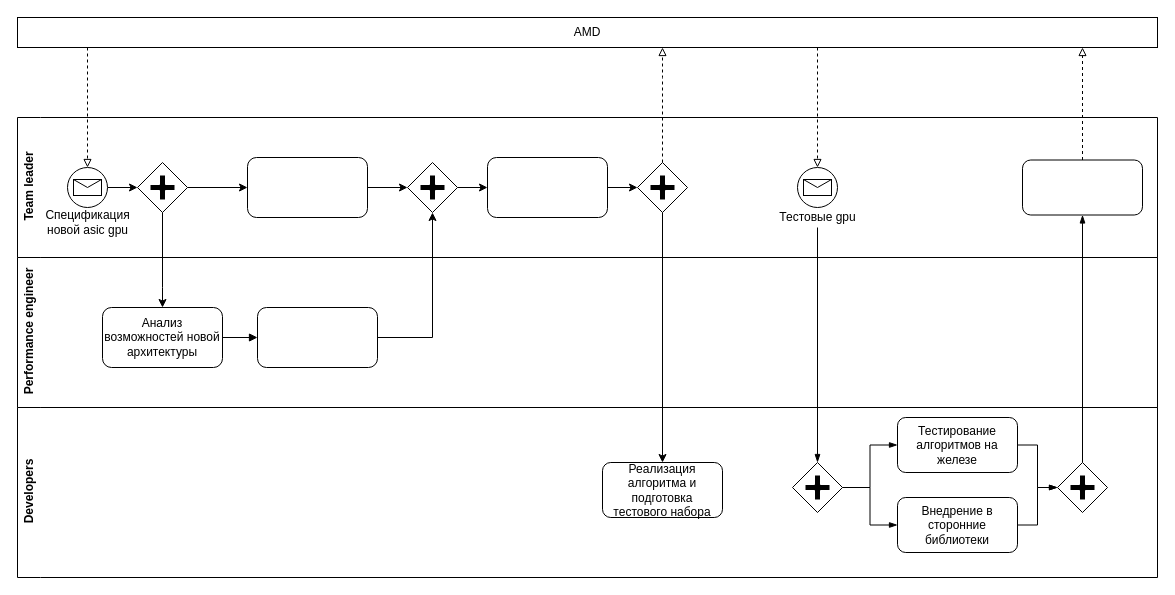
The diagram is 1175 pixels wide and 595 high, and some of its shapes have lost their labels. The centre of each missing label's shape, as x and y in pixels:
Доработка архитектуры для поддержки новых алгоритмов: point (307, 187)
Проектирование алгоритмов: point (317, 337)
Создать план по внедрению в библиотеку: point (547, 187)
Составить отчёт о проделанной работе, сравнение с предыдущими asic: point (1082, 187)
